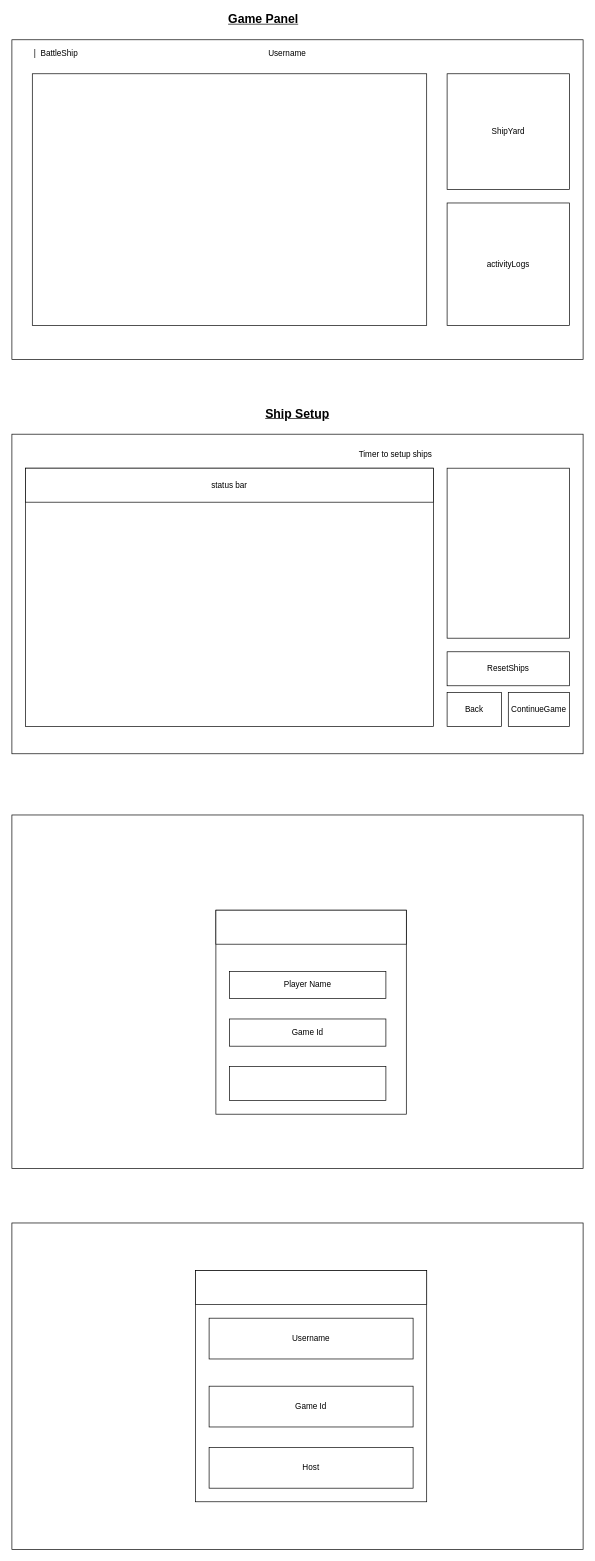
Some shapes in this 595 by 1561 pixel diagram are drawn without their labels. Each missing label, with the box of its shape:
Host Game: (195, 1270, 427, 1305)
Join: (229, 1066, 386, 1101)
Join Game: (215, 910, 406, 944)
setup ships: (25, 468, 434, 727)
Ship Container: (446, 468, 570, 638)
TargetYard: (32, 73, 427, 325)
